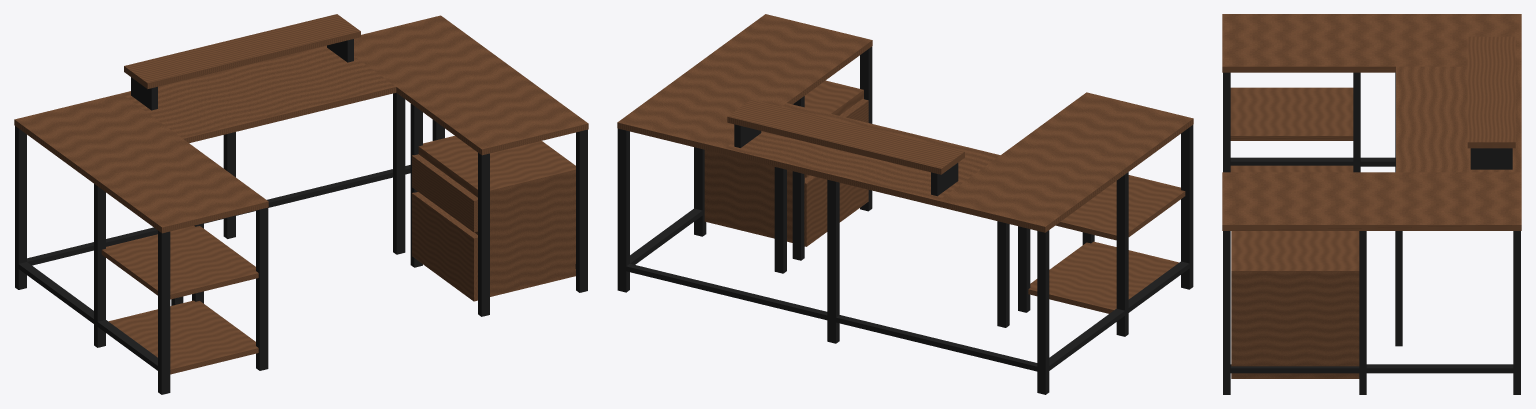
3 views of the same model, side by side, from view 1: azimuth 30°, elevation 25°; view 2: azimuth 150°, elevation 25°; view 3: azimuth 270°, elevation 25° (orthographic).
Visible parts, largest first — view 1: 1 left_desktop, 2 right_desktop, 9 right_cabinet_body, 3 center_desktop, 4 monitor_stand_top, 7 left_middle_shelf, 8 left_bottom_shelf, 11 right_lower_drawer_front, 10 right_upper_drawer_front, 25 center_back_stretcher, 12 left_front_outer_leg, 13 left_front_inner_leg (+9 smaller); view 2: 1 left_desktop, 2 right_desktop, 3 center_desktop, 9 right_cabinet_body, 4 monitor_stand_top, 8 left_bottom_shelf, 7 left_middle_shelf, 25 center_back_stretcher, 11 right_lower_drawer_front, 16 left_back_outer_leg, 22 right_back_outer_leg, 24 center_back_leg (+11 smaller); view 3: 9 right_cabinet_body, 2 right_desktop, 1 left_desktop, 3 center_desktop, 7 left_middle_shelf, 4 monitor_stand_top, 27 right_side_stretcher, 26 left_side_stretcher, 20 right_mid_outer_leg, 22 right_back_outer_leg, 18 right_front_outer_leg, 8 left_bottom_shelf (+4 smaller).
Boxes of the visible parts, bbox=[...] form: 1 left_desktop: bbox=[14, 93, 268, 233]; 2 right_desktop: bbox=[354, 15, 588, 155]; 9 right_cabinet_body: bbox=[418, 136, 575, 296]; 3 center_desktop: bbox=[121, 45, 396, 143]; 4 monitor_stand_top: bbox=[124, 14, 360, 88]; 7 left_middle_shelf: bbox=[101, 225, 258, 299]; 8 left_bottom_shelf: bbox=[108, 300, 258, 374]; 11 right_lower_drawer_front: bbox=[412, 192, 477, 301]; 10 right_upper_drawer_front: bbox=[412, 154, 477, 232]; 25 center_back_stretcher: bbox=[27, 165, 410, 265]; 12 left_front_outer_leg: bbox=[158, 230, 170, 394]; 13 left_front_inner_leg: bbox=[256, 207, 268, 370]; 1 left_desktop: bbox=[938, 92, 1193, 232]; 2 right_desktop: bbox=[617, 14, 872, 154]; 3 center_desktop: bbox=[724, 103, 1000, 206]; 9 right_cabinet_body: bbox=[704, 80, 863, 242]; 4 monitor_stand_top: bbox=[727, 99, 964, 174]; 8 left_bottom_shelf: bbox=[1028, 241, 1178, 313]; 7 left_middle_shelf: bbox=[1055, 175, 1185, 240]; 25 center_back_stretcher: bbox=[626, 263, 1037, 371]; 11 right_lower_drawer_front: bbox=[804, 175, 868, 246]; 16 left_back_outer_leg: bbox=[1037, 230, 1049, 394]; 22 right_back_outer_leg: bbox=[617, 128, 629, 292]; 24 center_back_leg: bbox=[827, 179, 839, 343]; 9 right_cabinet_body: bbox=[1231, 231, 1359, 378]; 2 right_desktop: bbox=[1222, 172, 1521, 230]; 1 left_desktop: bbox=[1222, 14, 1521, 72]; 3 center_desktop: bbox=[1396, 66, 1521, 172]; 7 left_middle_shelf: bbox=[1230, 87, 1353, 140]; 4 monitor_stand_top: bbox=[1467, 36, 1515, 148]; 27 right_side_stretcher: bbox=[1230, 364, 1514, 373]; 26 left_side_stretcher: bbox=[1230, 157, 1395, 166]; 20 right_mid_outer_leg: bbox=[1359, 231, 1366, 394]; 22 right_back_outer_leg: bbox=[1513, 231, 1520, 394]; 18 right_front_outer_leg: bbox=[1223, 231, 1230, 394]; 8 left_bottom_shelf: bbox=[1230, 165, 1353, 172].
Bounding box in the file's own units: 2 × 0.8839 × 1.2.
2 materials, 1 textured.
